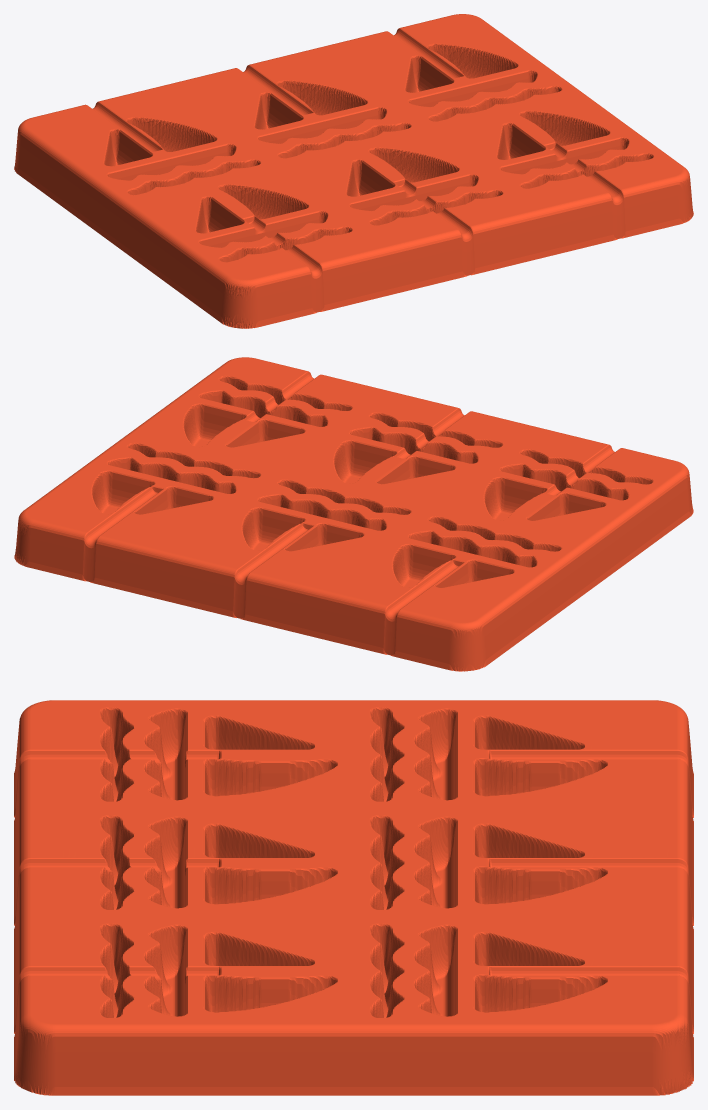
File: mold.glb
3 renders of one model, top to bottom at view 1: azimuth 30°, elevation 25°; view 2: azimuth 150°, elevation 25°; view 3: azimuth 270°, elevation 25°, orthographic. The views are drawn at different scales.
Parts seen in each view (by area): view 1: geometry_0; view 2: geometry_0; view 3: geometry_0.
Part boxes in pixels (bbox=[...]): geometry_0: bbox=[14, 14, 693, 328]; geometry_0: bbox=[14, 357, 693, 671]; geometry_0: bbox=[14, 700, 693, 1095].
Size of the model in its own units: 0.1732 by 0.0155 by 0.1477.
